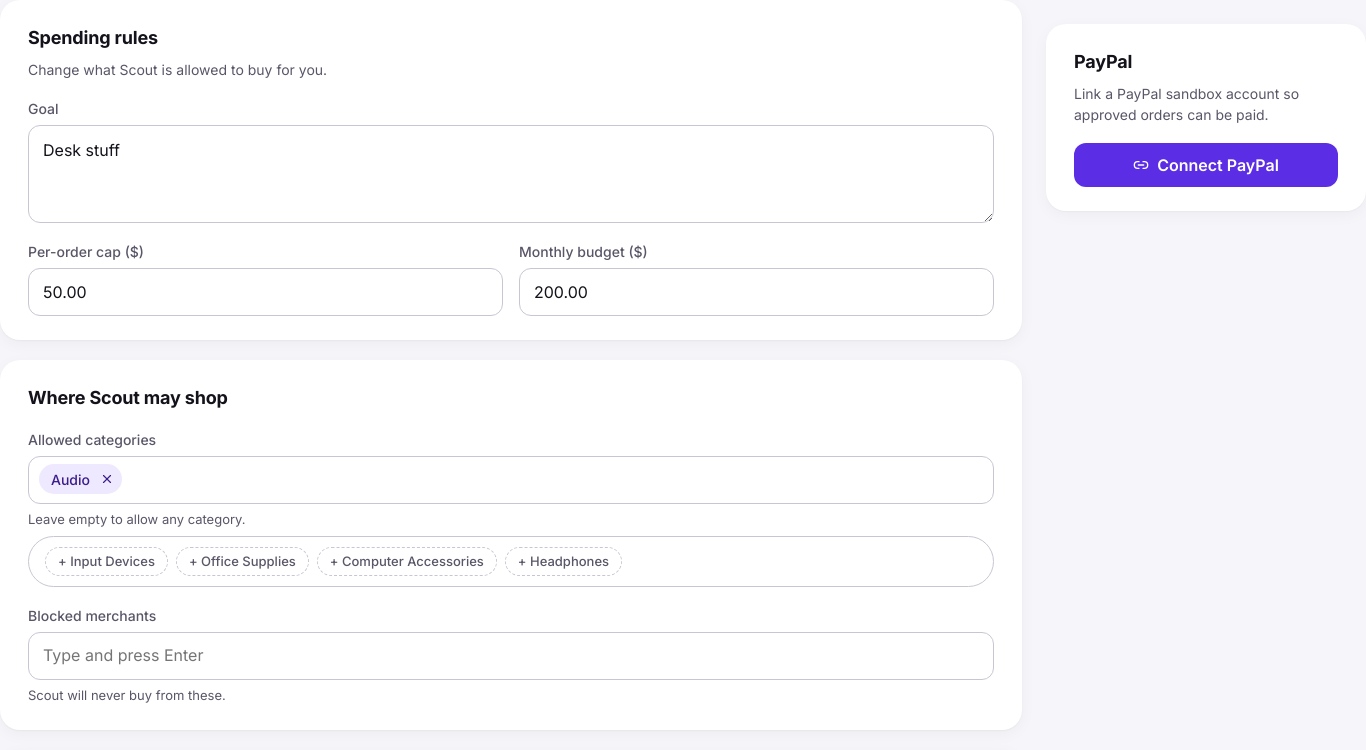
Scenario: Rules page › edit: PATCH sends only changed fields and shows server errors
Type "75" into the field labelled "Per-order cap ($)".
click(266, 292); type("75")  # box 28,268 -> 503,316
(page scrolled)
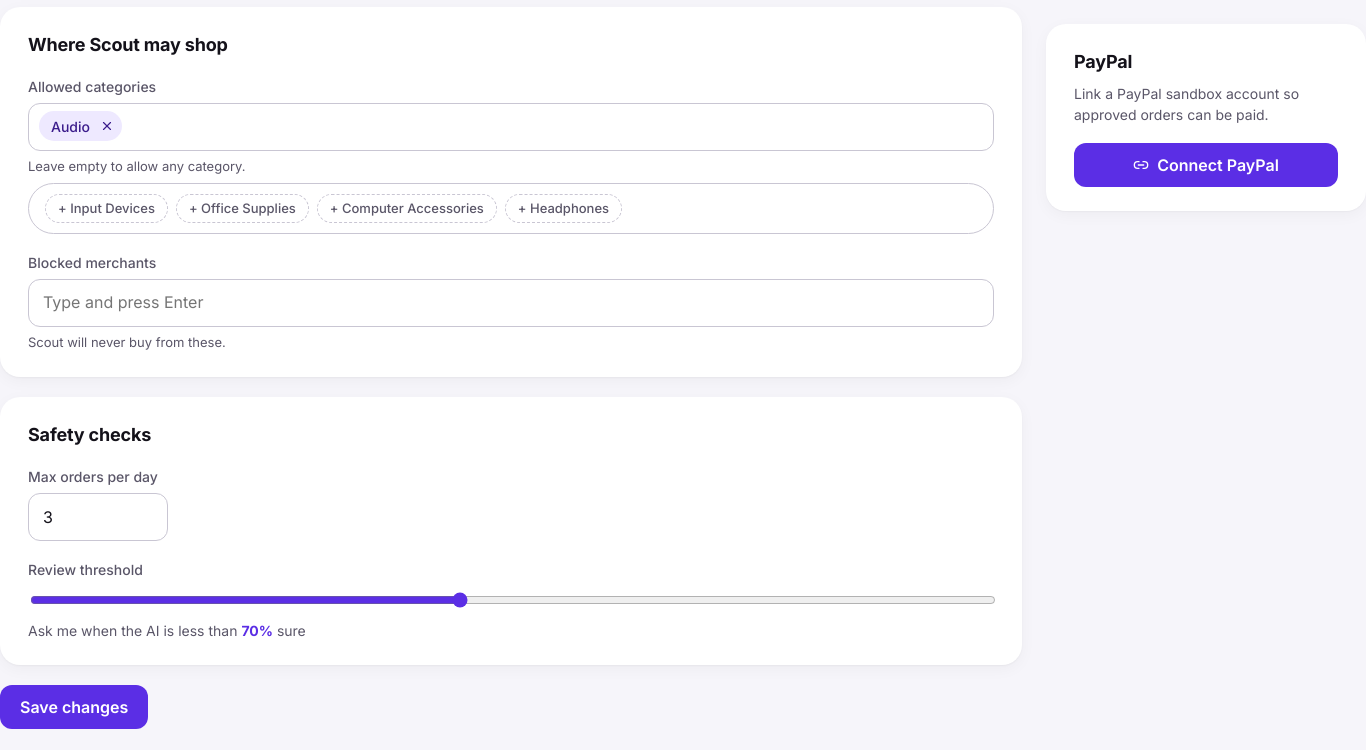
Click the button "Save changes".
click(74, 706)  # box 0,684 -> 148,728
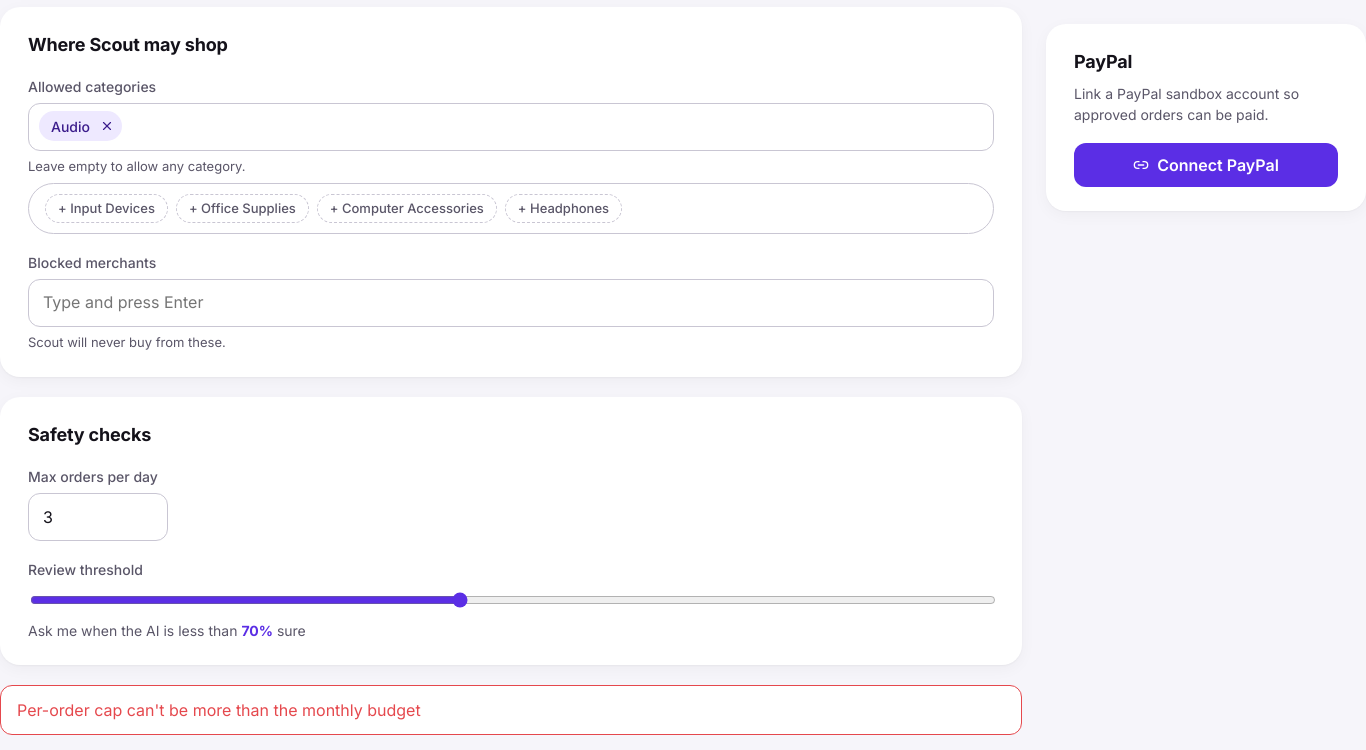
Expected: the message shows "more than the monthly budget", 17,700 -> 421,720
